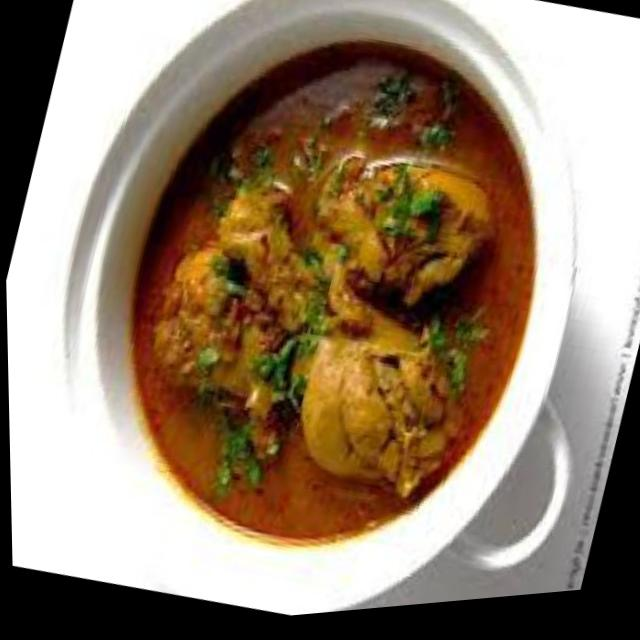CHICKEN CURRY: (129, 50, 531, 535)
